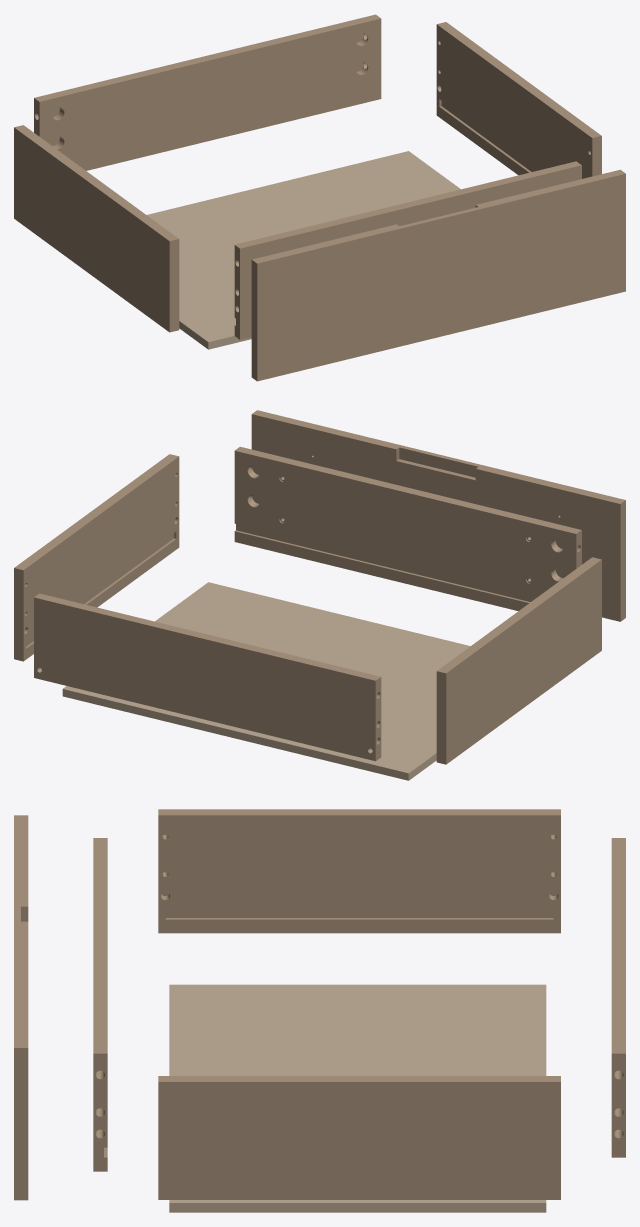
File: drawer-exploded.glb
3 renders of one model, top to bottom at view 1: azimuth 30°, elevation 25°; view 2: azimuth 150°, elevation 25°; view 3: azimuth 270°, elevation 25°, orthographic. The views are drawn at different scales.
Parts seen in each view (by area): view 1: face, rear, bottom, left, right, front; view 2: front, rear, bottom, face, left, right; view 3: left, right, bottom, face, front, rear.
Part boxes in pixels (box(x1,y1,x2,y2)): face: box(251, 169, 625, 381); rear: box(34, 14, 381, 170); bottom: box(147, 151, 460, 349); left: box(14, 125, 179, 332); right: box(436, 22, 601, 178); front: box(234, 161, 581, 339); front: box(234, 446, 581, 610); rear: box(34, 593, 381, 761); bottom: box(62, 582, 470, 780); face: box(251, 410, 625, 621); left: box(436, 557, 601, 764); right: box(14, 454, 179, 661); left: box(158, 809, 560, 933); right: box(158, 1076, 560, 1199); bottom: box(169, 984, 546, 1212); face: box(14, 815, 28, 1200); front: box(93, 838, 107, 1171); rear: box(611, 838, 625, 1157).
Bounding box in the file's own units: 0.545 × 0.16 × 0.517.
